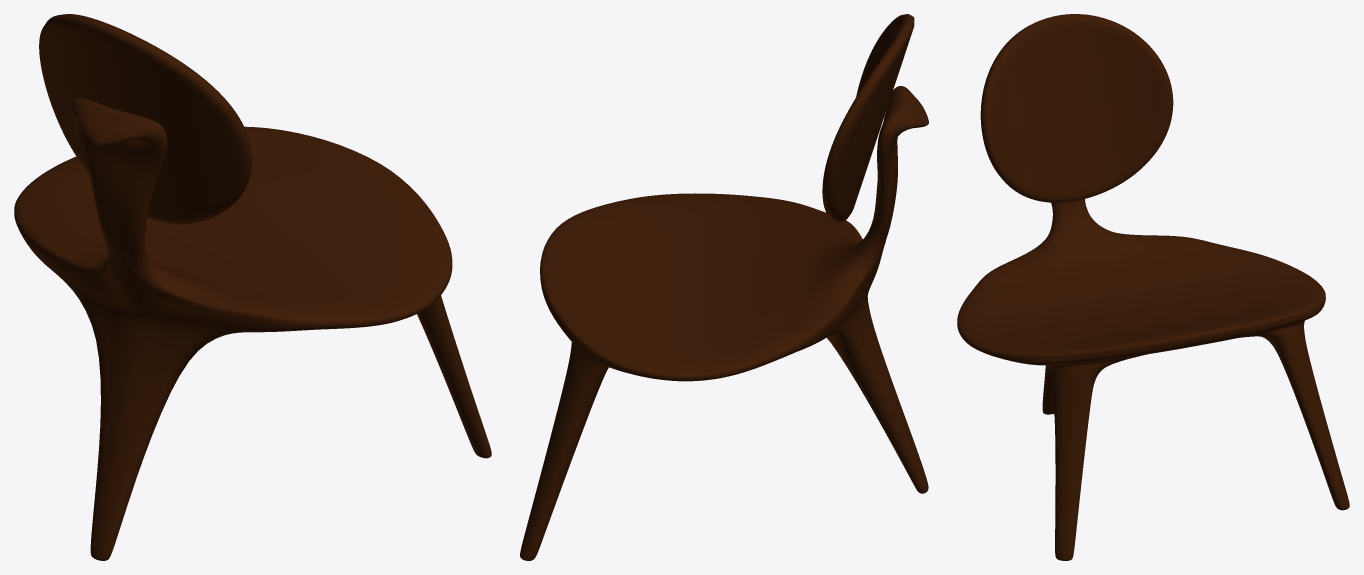
The model's file is tutchair.glb.
3 views of the same model, side by side, from view 1: azimuth 30°, elevation 25°; view 2: azimuth 150°, elevation 25°; view 3: azimuth 270°, elevation 25° (orthographic). The views are drawn at different scales.
Parts seen in each view (by area): view 1: Object247.004_3.001; view 2: Object247.004_3.001; view 3: Object247.004_3.001.
Boxes of the visible parts, <box> form: Object247.004_3.001: <box>14,14,491,560</box>; Object247.004_3.001: <box>520,14,928,560</box>; Object247.004_3.001: <box>957,14,1349,560</box>.
Bounding box in the file's own units: 0.0948 × 0.1175 × 0.1037.
